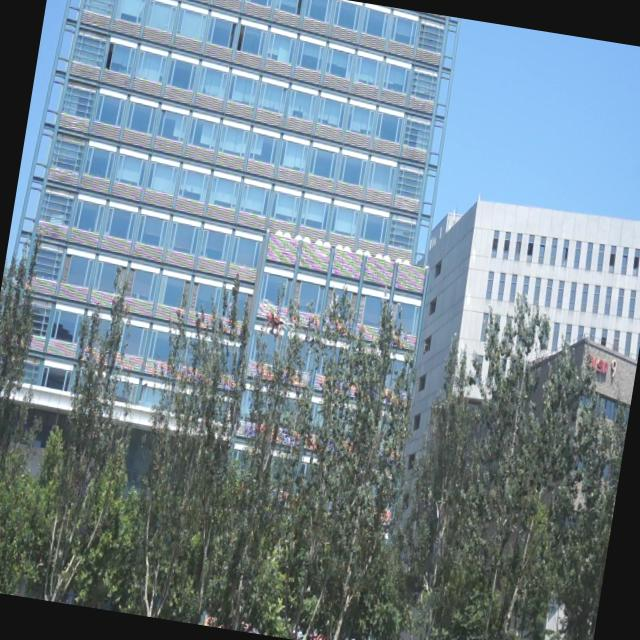drone: (253, 295, 300, 351)
